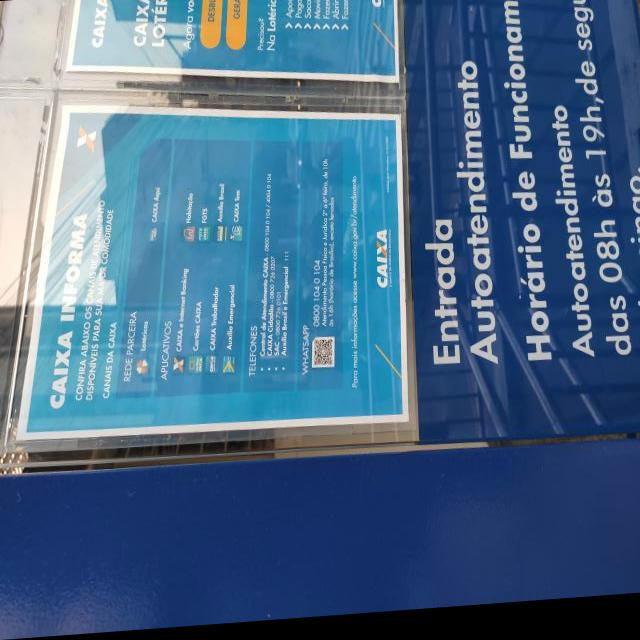qrcode: (315, 344, 333, 371)
